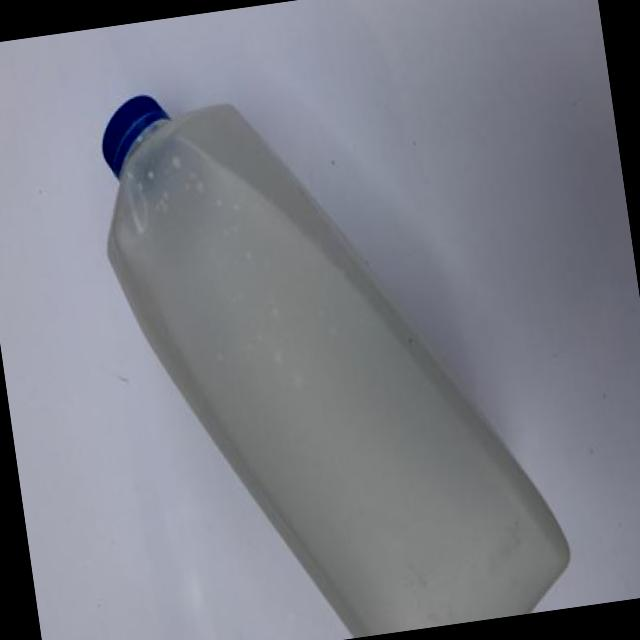Recycle: (86, 42, 581, 640)
